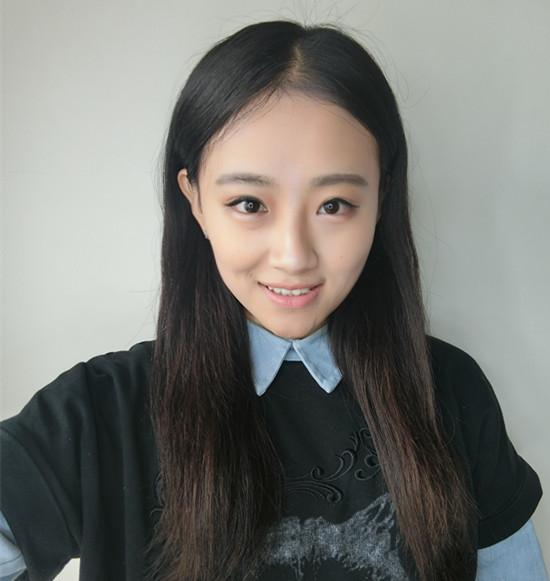unmask: (208, 123, 381, 325)
